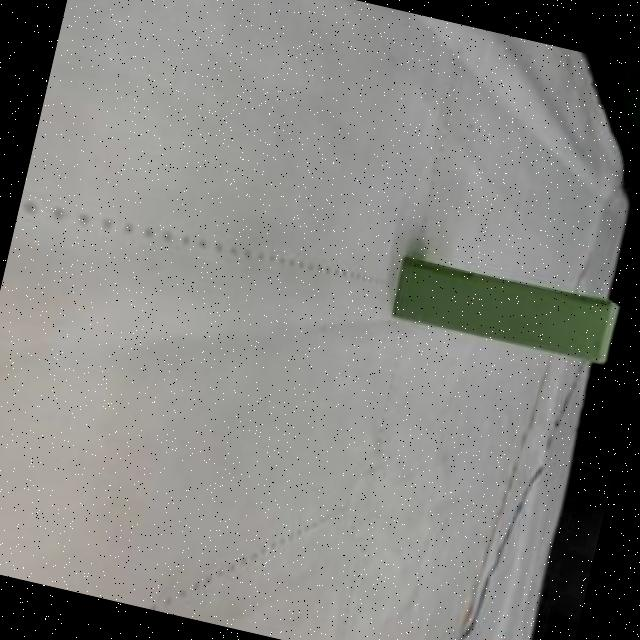greenbox: (384, 249, 625, 368)
